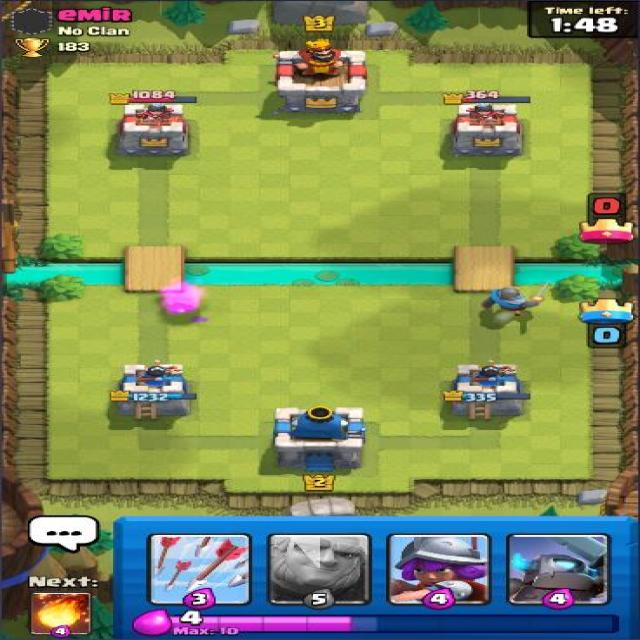Player-Knight: (478, 280, 557, 319)
